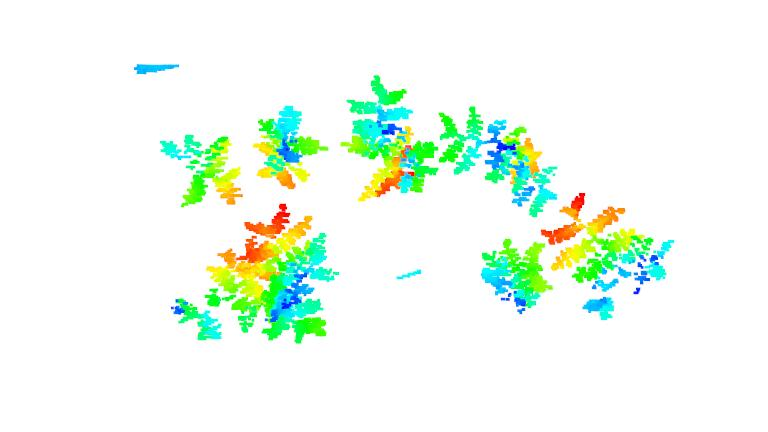chickpea: (541, 198, 674, 320), (243, 203, 351, 341), (436, 95, 557, 218), (348, 67, 440, 201), (166, 245, 272, 343), (157, 127, 244, 209), (470, 236, 562, 312), (253, 105, 331, 191)
